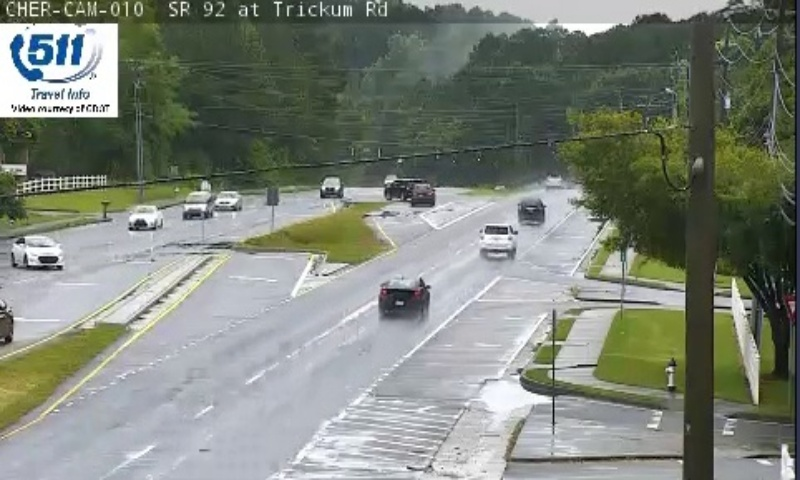car: (378, 276, 429, 317), (479, 223, 517, 254), (516, 196, 544, 221)
